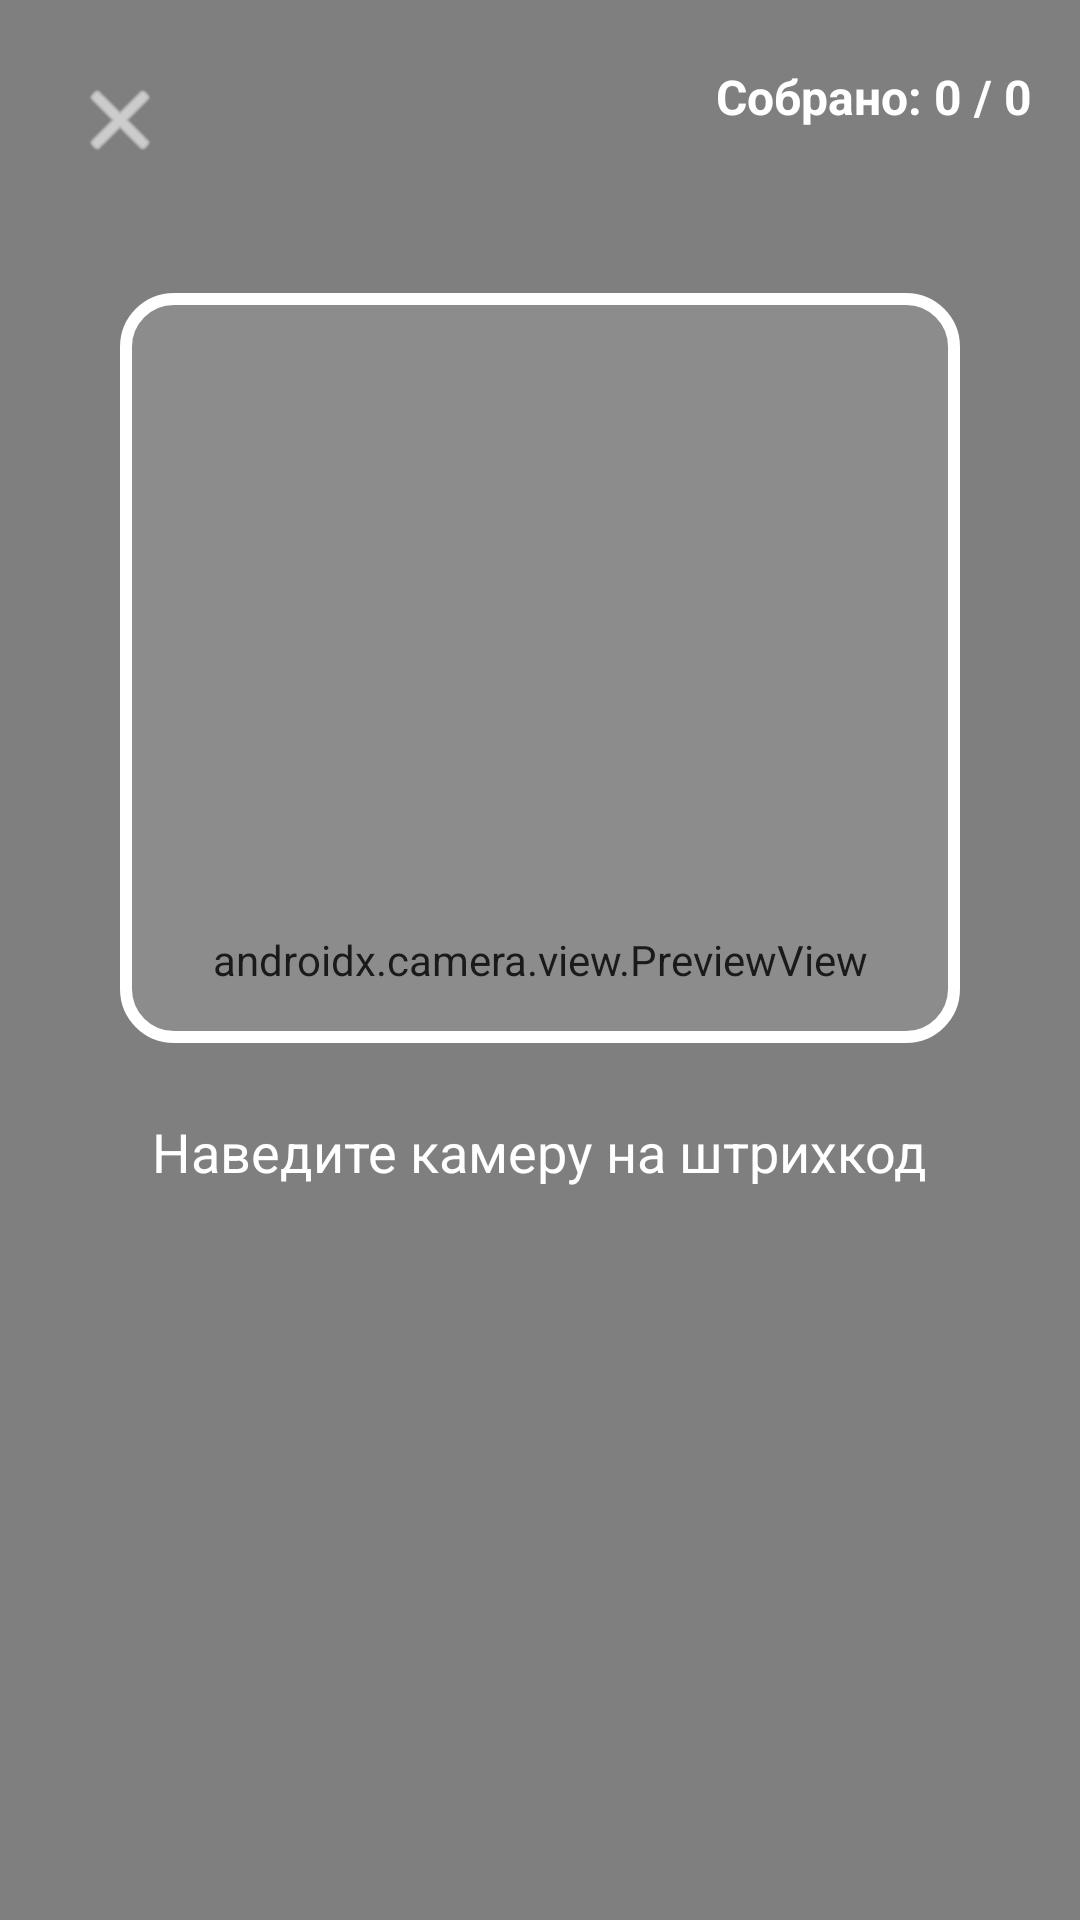

Icon bounding boxes for this 1080 x 1920 phone screenshot, format (x1, y1, x2, y2):
Close: (90, 90, 150, 150)
